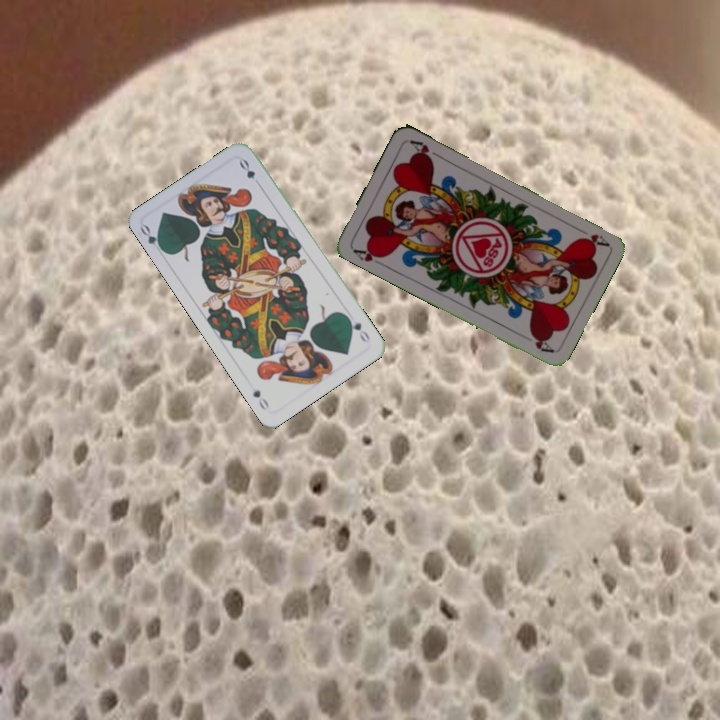GO: (136, 221, 168, 255), (343, 312, 373, 346)
HA: (573, 224, 611, 249), (349, 243, 387, 265)
